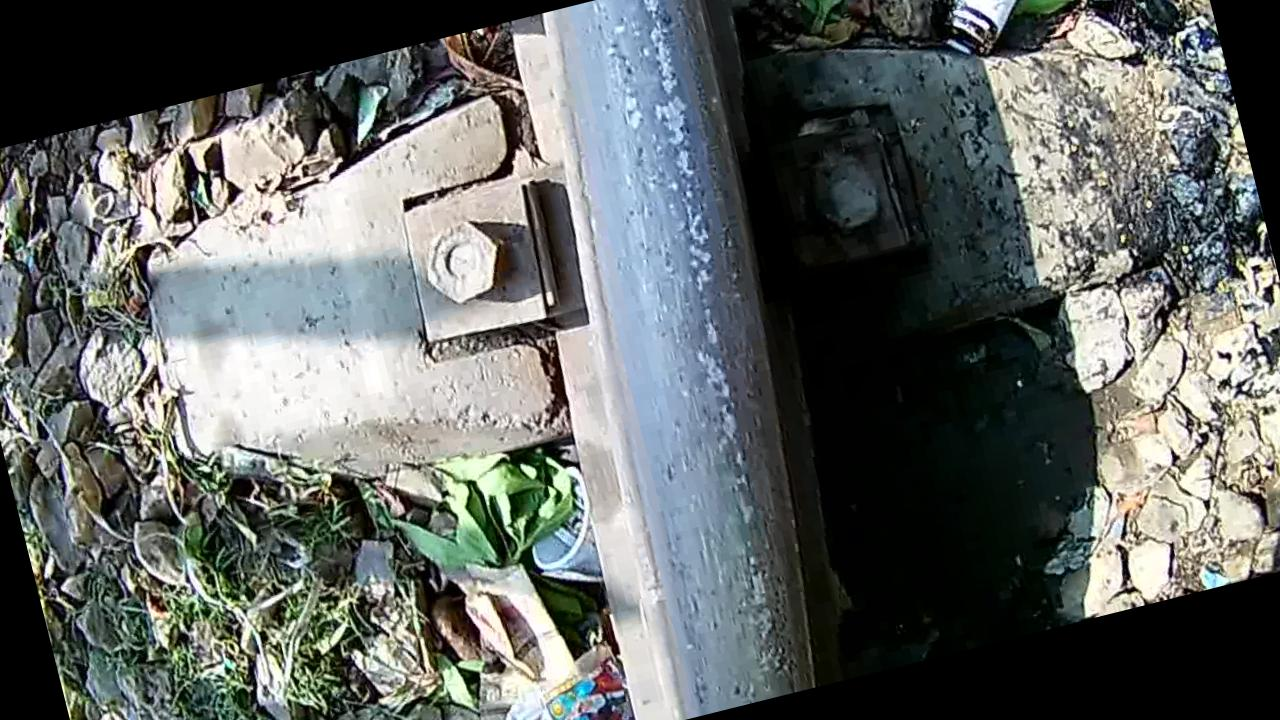clip_missing: (498, 0, 880, 720)
